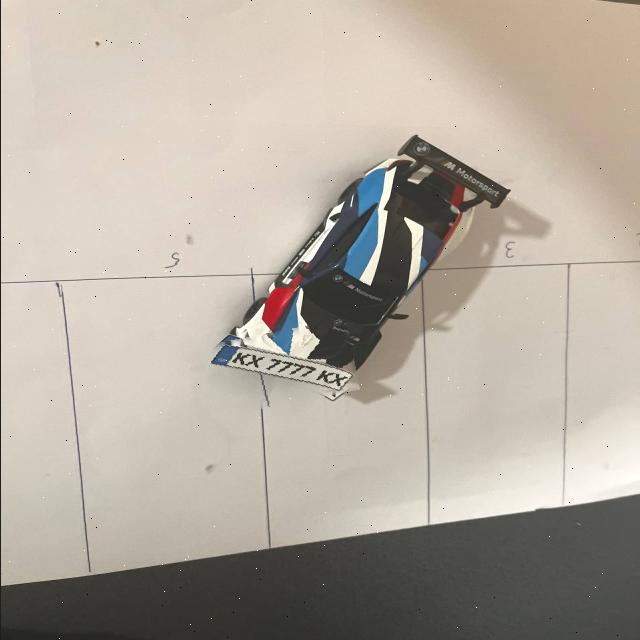KX 7777 KX: (203, 342, 357, 393)
